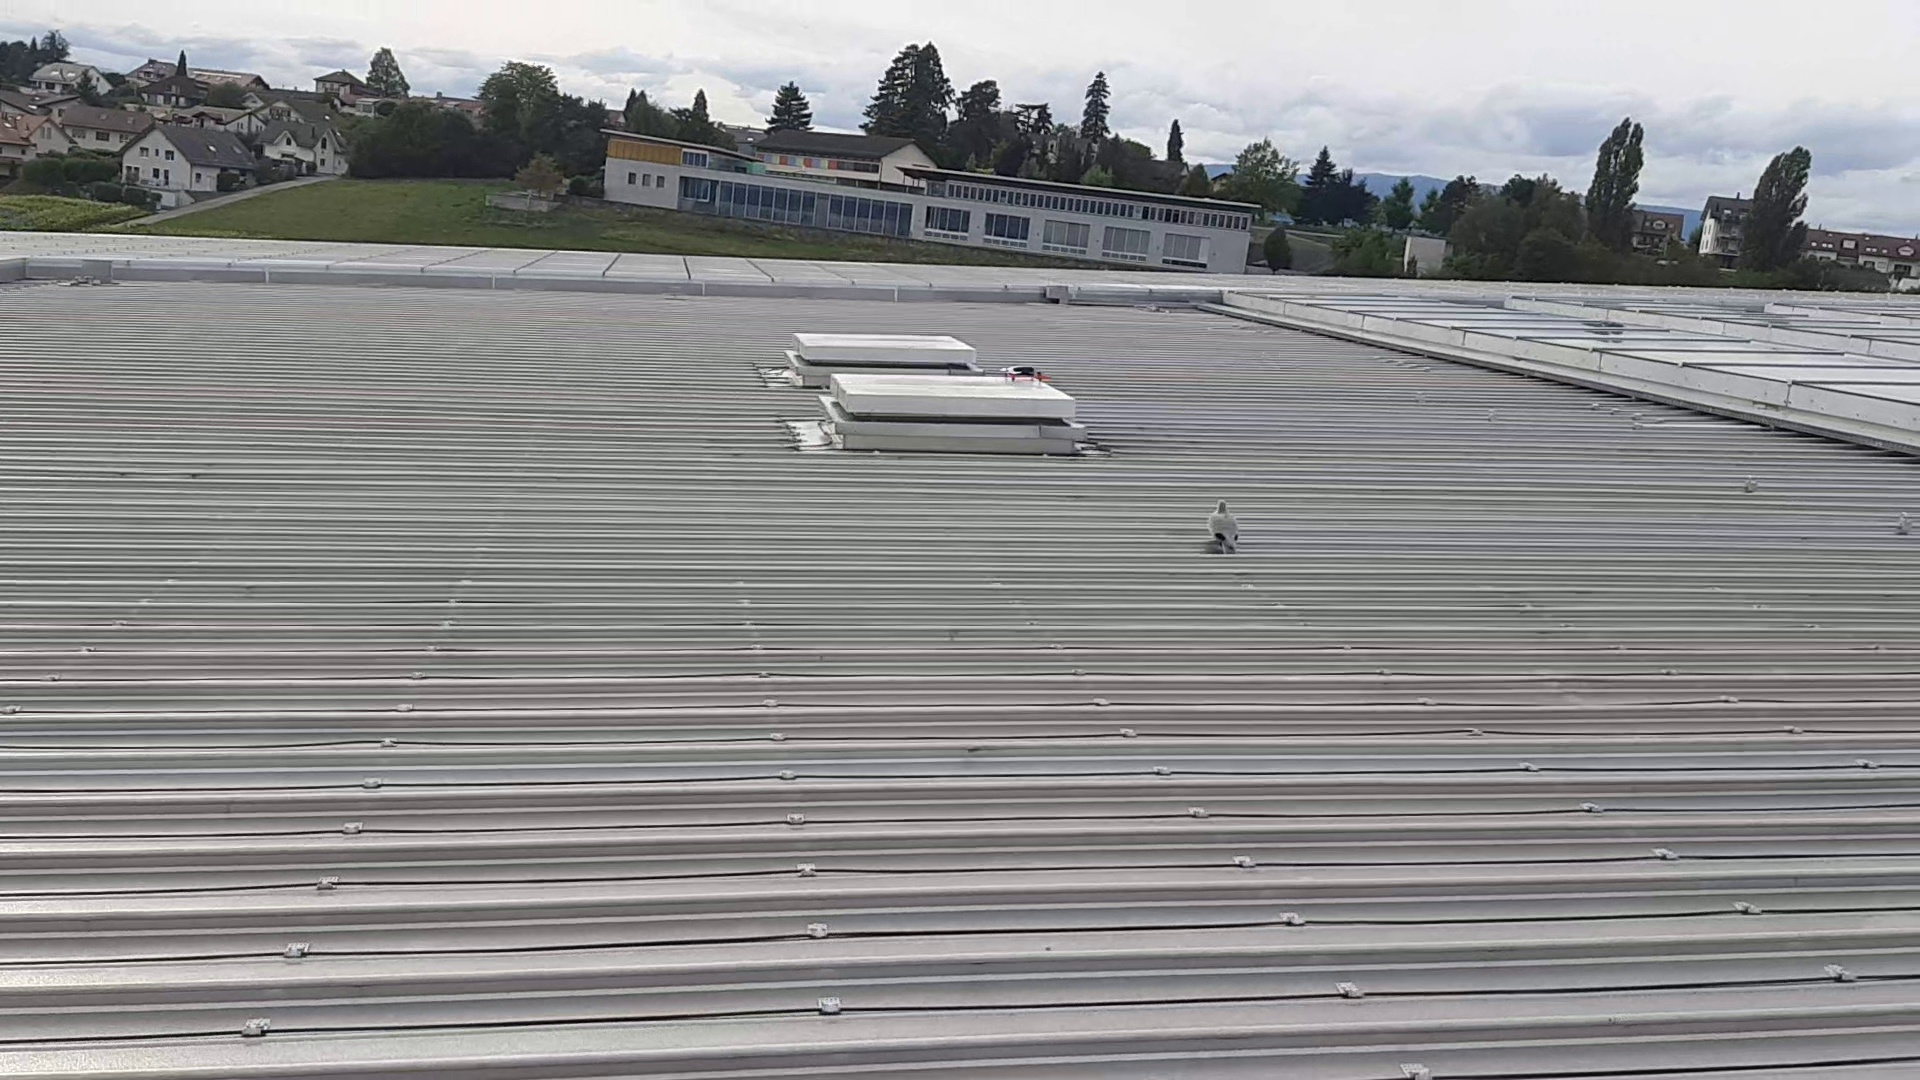Pigeon: (1201, 495, 1255, 559)
